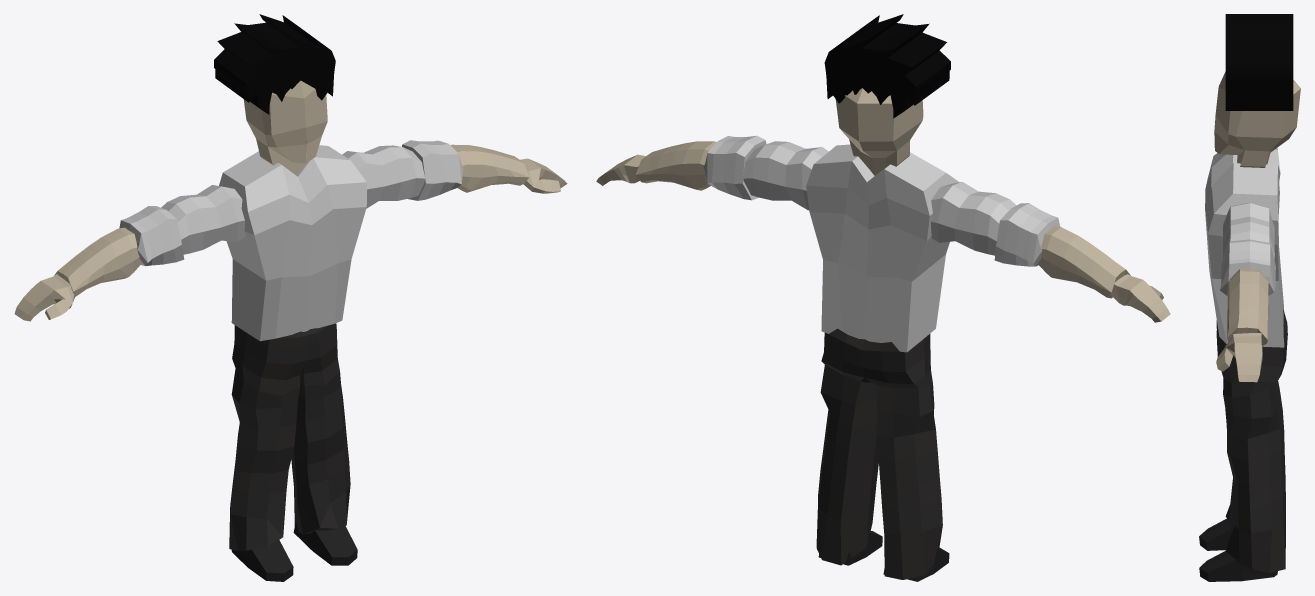
File: Harshmyaa.fbx
The picture shows the model from 3 angles, left to right: view 1: azimuth 30°, elevation 25°; view 2: azimuth 150°, elevation 25°; view 3: azimuth 270°, elevation 25°; orthographic projection. The views are drawn at different scales.
Parts seen in each view (by area): view 1: Cube.008, Cube.001, Cube.010, Cube.004, Cube.006, Cube, Cube.005, Cube.009, Cube.007; view 2: Cube.008, Cube.001, Cube.010, Cube.004, Cube.006, Cube.005, Cube, Cube.007, Cube.009; view 3: Cube.008, Cube.001, Cube.010, Cube, Cube.006, Cube.009, Cube.005, Cube.004, Cube.007.
Part boxes in pixels (<box>): Cube.008: <box>229,323,350,550</box>; Cube.001: <box>219,145,366,341</box>; Cube.010: <box>214,14,335,114</box>; Cube.004: <box>161,145,424,254</box>; Cube.006: <box>54,144,529,296</box>; Cube: <box>243,80,327,175</box>; Cube.005: <box>119,140,463,266</box>; Cube.009: <box>231,522,357,581</box>; Cube.007: <box>14,158,567,321</box>; Cube.008: <box>816,328,942,579</box>; Cube.001: <box>806,144,958,352</box>; Cube.010: <box>824,14,950,118</box>; Cube.004: <box>743,141,1016,255</box>; Cube.006: <box>635,141,1130,298</box>; Cube.005: <box>703,135,1060,266</box>; Cube: <box>835,88,923,175</box>; Cube.007: <box>596,154,1170,322</box>; Cube.009: <box>818,531,949,581</box>; Cube.008: <box>1216,309,1287,573</box>; Cube.001: <box>1205,148,1284,347</box>; Cube.010: <box>1225,14,1293,110</box>; Cube: <box>1214,71,1300,167</box>; Cube.006: <box>1227,268,1268,345</box>; Cube.009: <box>1199,518,1277,581</box>; Cube.005: <box>1220,239,1275,295</box>; Cube.004: <box>1223,202,1274,259</box>; Cube.007: <box>1214,122,1262,382</box>.
Bounding box in the file's own units: 424 × 393 × 68.17.
